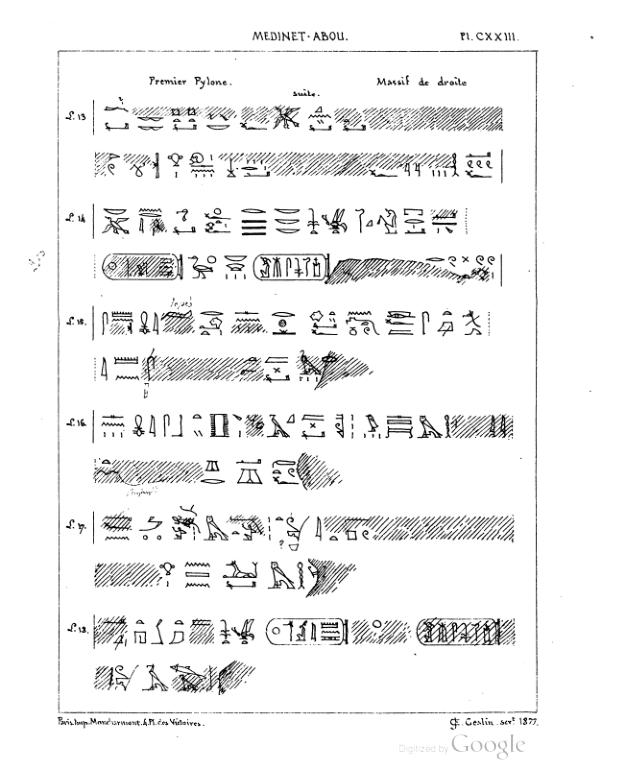circle: (412, 611, 506, 652), (98, 250, 188, 287), (264, 614, 353, 649), (250, 251, 332, 286)
